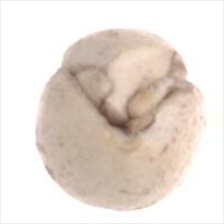L3: (69, 55, 180, 141)
L4: (33, 29, 204, 210)
